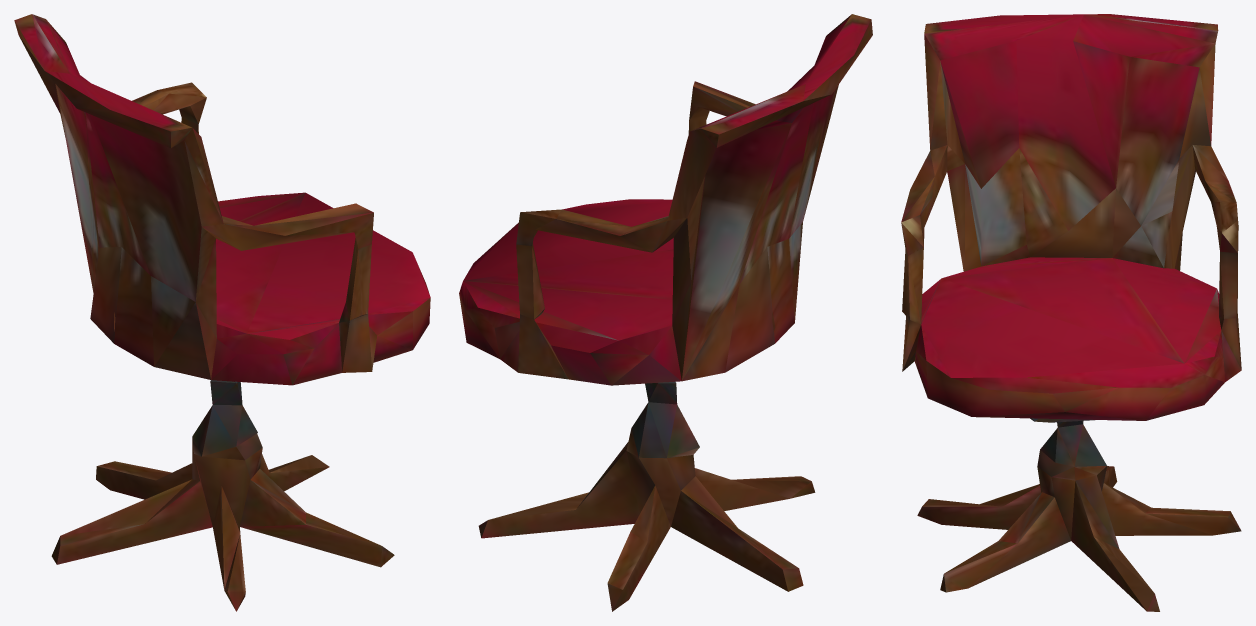
File: mj-dining-chair-2nd-swivel.lod1.glb
3 renders of one model, left to right at view 1: azimuth 30°, elevation 25°; view 2: azimuth 150°, elevation 25°; view 3: azimuth 270°, elevation 25°, orthographic. The views are drawn at different scales.
Visible parts, largest first — view 1: mj-dining-chair-2nd-swivel; view 2: mj-dining-chair-2nd-swivel; view 3: mj-dining-chair-2nd-swivel.
Part boxes in pixels (x1,y1,x2,y2): mj-dining-chair-2nd-swivel: (14, 14, 430, 611); mj-dining-chair-2nd-swivel: (459, 14, 872, 611); mj-dining-chair-2nd-swivel: (901, 14, 1241, 611).
Size of the model in its own units: 0.5991 by 0.859 by 0.5675.
1 material, 1 textured.
